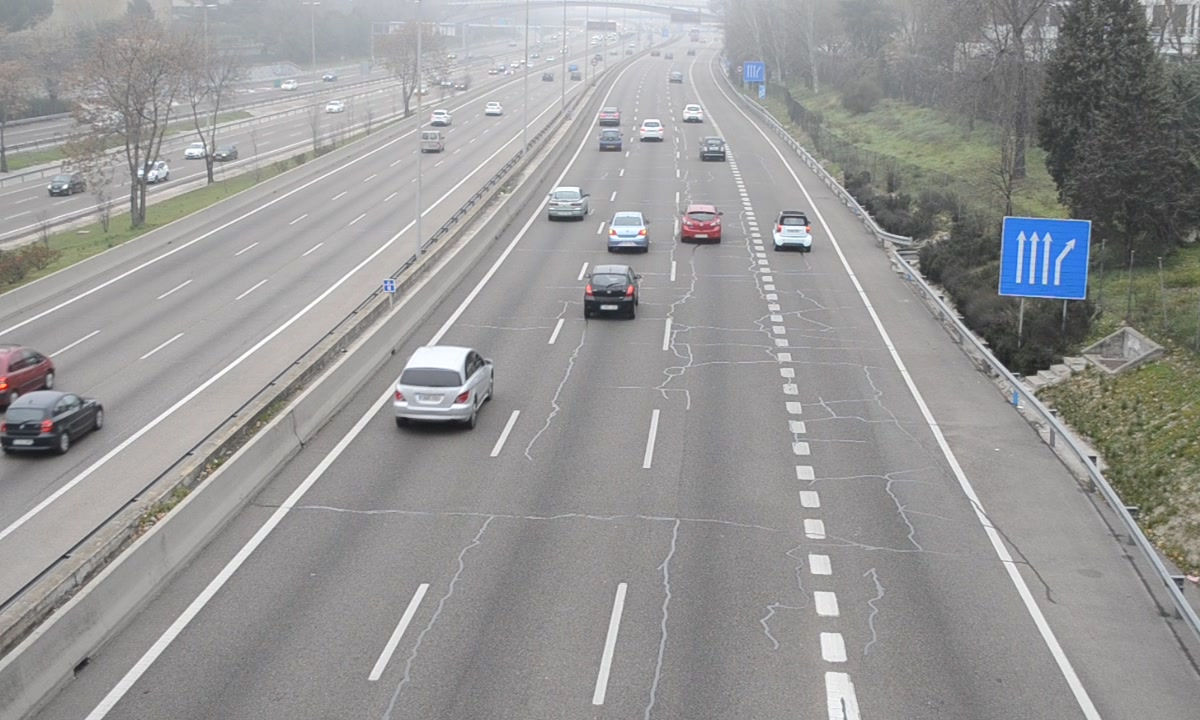car: (391, 346, 494, 424), (584, 262, 637, 317), (607, 211, 651, 254), (681, 203, 724, 246), (773, 210, 815, 252), (546, 184, 591, 221), (699, 136, 726, 163), (640, 116, 666, 142), (597, 129, 622, 153), (597, 106, 621, 127)
